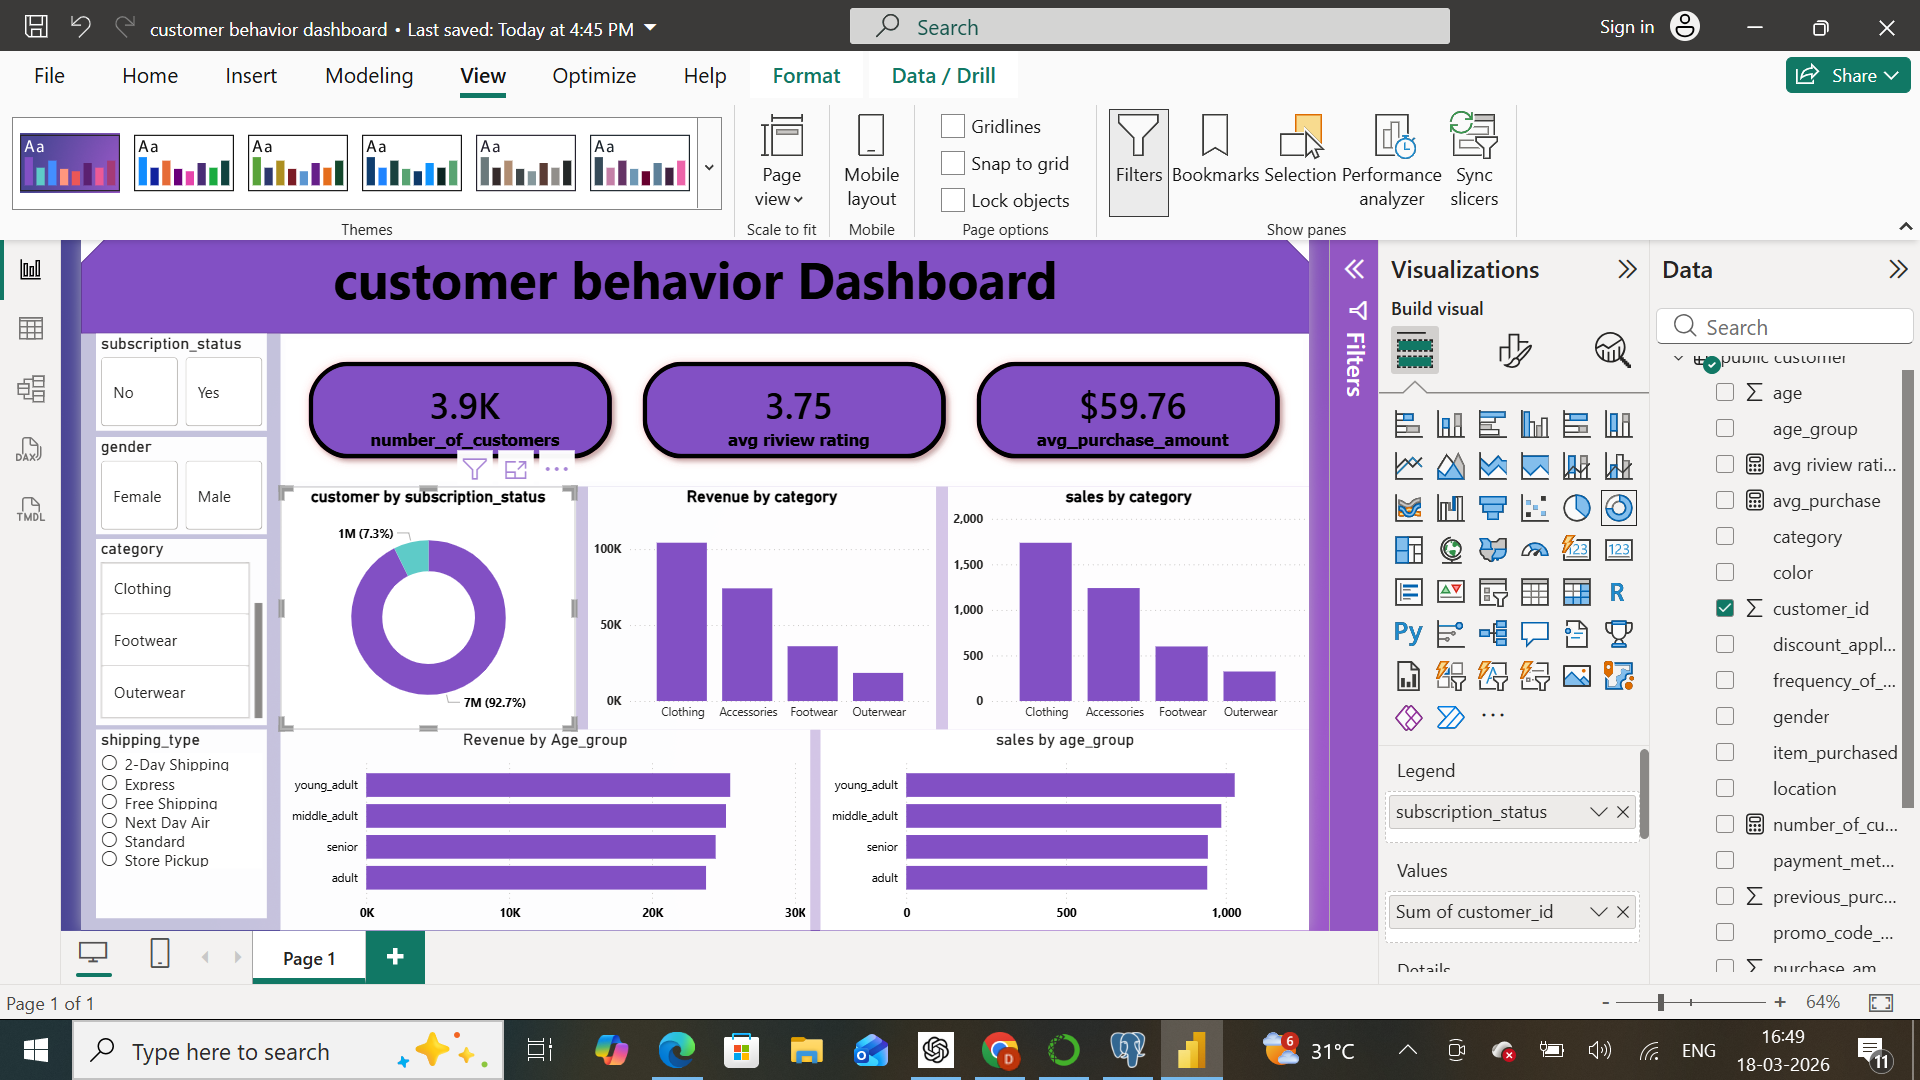

Layout of this report page (visuals, bound fields, positions):
{"tool":"powerbi","page":{"name":"Page 1","canvas":[1280,720],"ordinal":0},"visuals":[{"type":"cardVisual","fields":{"Data":["public customer.number_of_customer","public customer.avg riview rating","public customer.avg_purchase"]},"box":[207.9,98.5,1072.2,159.4],"z":0},{"type":"shape","box":[0,0,1280.4,98.6],"z":1},{"type":"textbox","box":[0,0,1280.4,87.5],"z":2},{"type":"donutChart","title":"customer by subscription_status","fields":{"Y":["Sum(public customer.customer_id)"],"Category":["public customer.subscription_status"]},"box":[207.9,257.9,307.9,253.2],"z":3},{"type":"columnChart","title":"Revenue by category","fields":{"Y":["Sum(public customer.purchase_amount)"],"Category":["public customer.category"]},"box":[528.3,257.9,362.6,253.2],"z":4},{"type":"columnChart","title":"sales by category","fields":{"Category":["public customer.category"],"Y":["CountNonNull(public customer.customer_id)"]},"box":[903.4,257.9,376.7,253.2],"z":5},{"type":"advancedSlicerVisual","fields":{"Values":["public customer.subscription_status"]},"box":[15.6,98.5,178.2,101.6],"z":7},{"type":"advancedSlicerVisual","fields":{"Values":["public customer.gender"]},"box":[15.6,206.3,178.2,101.6],"z":8},{"type":"advancedSlicerVisual","fields":{"Values":["public customer.category"]},"box":[15.6,312.6,178.2,193.8],"z":9},{"type":"listSlicer","fields":{"Values":["public customer.shipping_type"]},"box":[15.6,511.1,178.2,196.9],"z":10},{"type":"barChart","title":"Revenue by Age_group","fields":{"Category":["public customer.age_group"],"Y":["Sum(public customer.previous_purchases)"]},"box":[207.9,511.1,551.7,209.4],"z":11},{"type":"barChart","title":"sales by age_group","fields":{"Category":["public customer.age_group"],"Y":["CountNonNull(public customer.previous_purchases)"]},"box":[770.6,511.1,509.5,209.4],"z":12}]}

Visuals, with their boxes on the page's 1280x720 design canvas (x1, y1, x2, y2). These are canvas units, not pixel positions in the 1920x1080 screenshot, which may show the page scaled, cropped or inside an application window:
cardVisual - public customer.number_of_customer x public customer.avg riview rating: <box>208,98,1280,258</box>
shape: <box>0,0,1280,99</box>
textbox: <box>0,0,1280,88</box>
"customer by subscription_status" donutChart: <box>208,258,516,511</box>
"Revenue by category" columnChart: <box>528,258,891,511</box>
"sales by category" columnChart: <box>903,258,1280,511</box>
advancedSlicerVisual - public customer.subscription_status: <box>16,98,194,200</box>
advancedSlicerVisual - public customer.gender: <box>16,206,194,308</box>
advancedSlicerVisual - public customer.category: <box>16,313,194,506</box>
listSlicer - public customer.shipping_type: <box>16,511,194,708</box>
"Revenue by Age_group" barChart: <box>208,511,760,720</box>
"sales by age_group" barChart: <box>771,511,1280,720</box>
